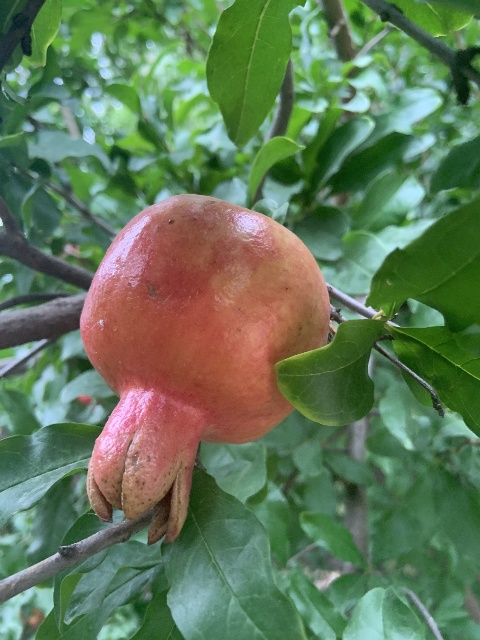ripe: (80, 191, 329, 544)
